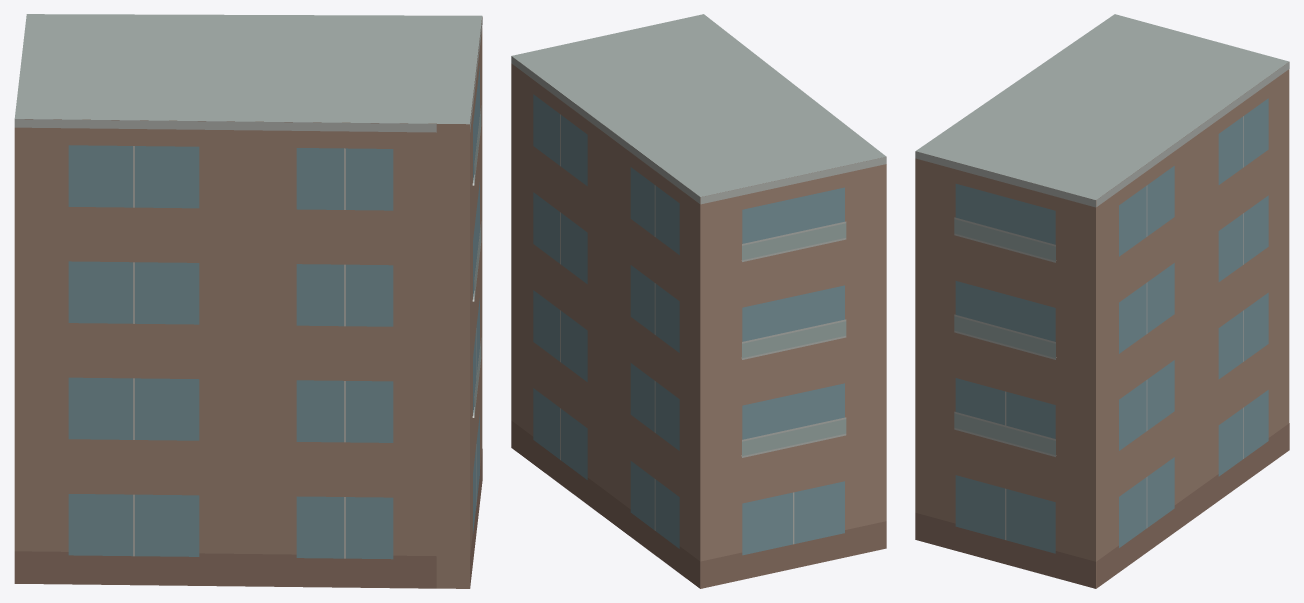
Rendered from survey-upis-32905985.glb.
3 renders of one model, left to right at view 1: azimuth 30°, elevation 25°; view 2: azimuth 150°, elevation 25°; view 3: azimuth 270°, elevation 25°, orthographic. The views are drawn at different scales.
Visible parts, largest first — view 1: survey-upis-32905985.tmp; view 2: survey-upis-32905985.tmp; view 3: survey-upis-32905985.tmp.
Boxes of the visible parts, x1,y1,x2,y2 form: survey-upis-32905985.tmp: [14, 14, 482, 588]; survey-upis-32905985.tmp: [511, 14, 886, 588]; survey-upis-32905985.tmp: [915, 14, 1289, 588].
Bounding box in the file's own units: 13.37 × 13 × 11.35.
